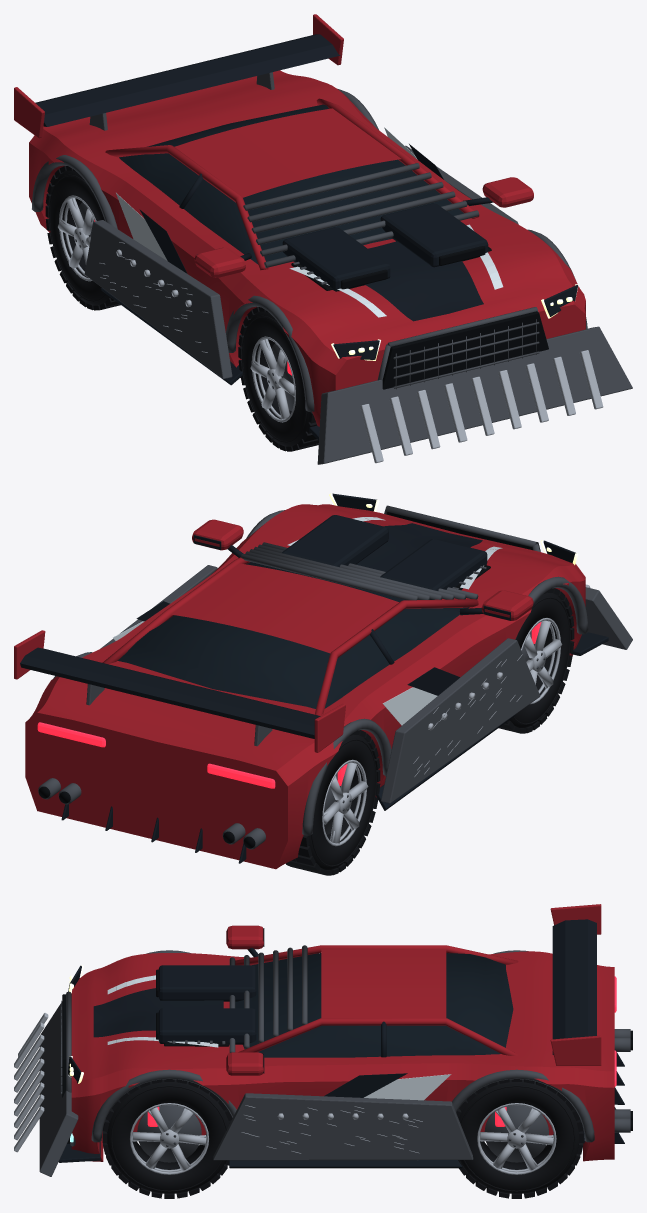
Rendered from crusher-x.glb.
3 views of the same model, one above another, from view 1: azimuth 30°, elevation 25°; view 2: azimuth 150°, elevation 25°; view 3: azimuth 270°, elevation 25° (orthographic). The views are drawn at different scales.
Parts seen in each view (by area): view 1: body, wheel_fl_spin_mesh, wheel_rl_spin_mesh; view 2: body, wheel_rl_spin_mesh, wheel_fl_spin_mesh; view 3: body, wheel_fr_spin_mesh, wheel_rr_spin_mesh.
Boxes of the visible parts, x1,y1,x2,y2 form: body: [14, 14, 632, 464]; wheel_fl_spin_mesh: [238, 307, 318, 451]; wheel_rl_spin_mesh: [45, 166, 120, 310]; body: [14, 493, 632, 869]; wheel_rl_spin_mesh: [285, 730, 380, 875]; wheel_fl_spin_mesh: [498, 588, 574, 733]; body: [14, 904, 632, 1176]; wheel_fr_spin_mesh: [102, 1079, 232, 1198]; wheel_rr_spin_mesh: [456, 1079, 583, 1198].
Size of the model in its own units: 2.97 by 1.66 by 5.47.
